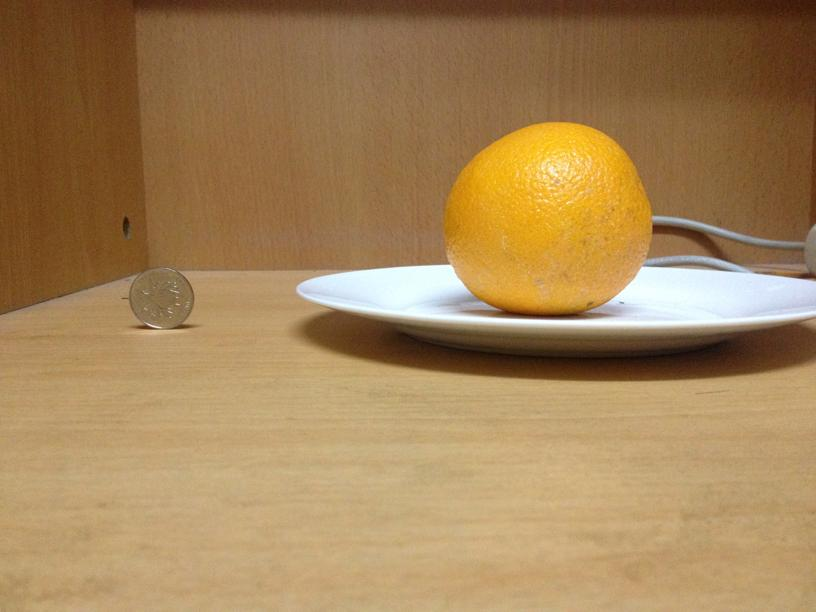coin: (127, 264, 194, 328)
orange: (448, 119, 652, 314)
